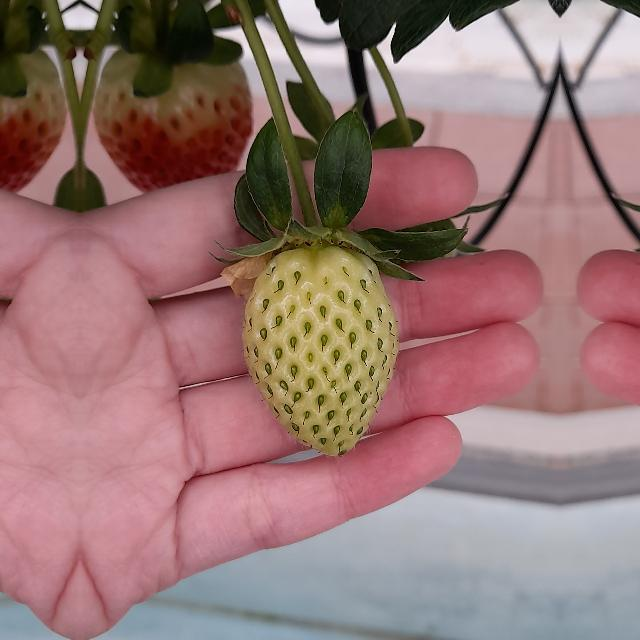Health_25: (242, 245, 398, 455)
Health_75: (93, 35, 251, 195), (0, 35, 67, 195)
